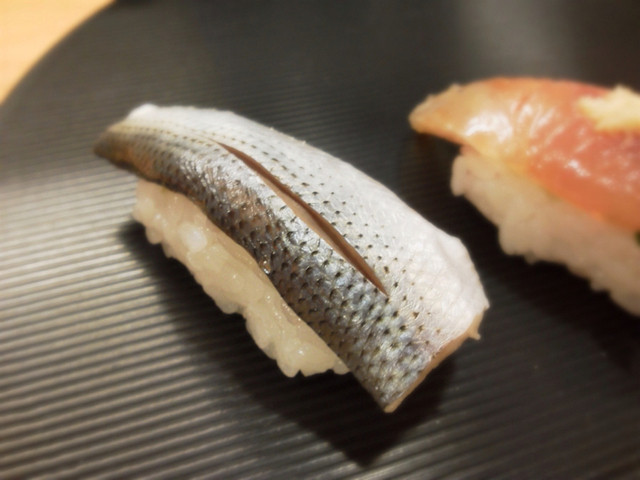spotted-shad: (91, 99, 490, 417)
